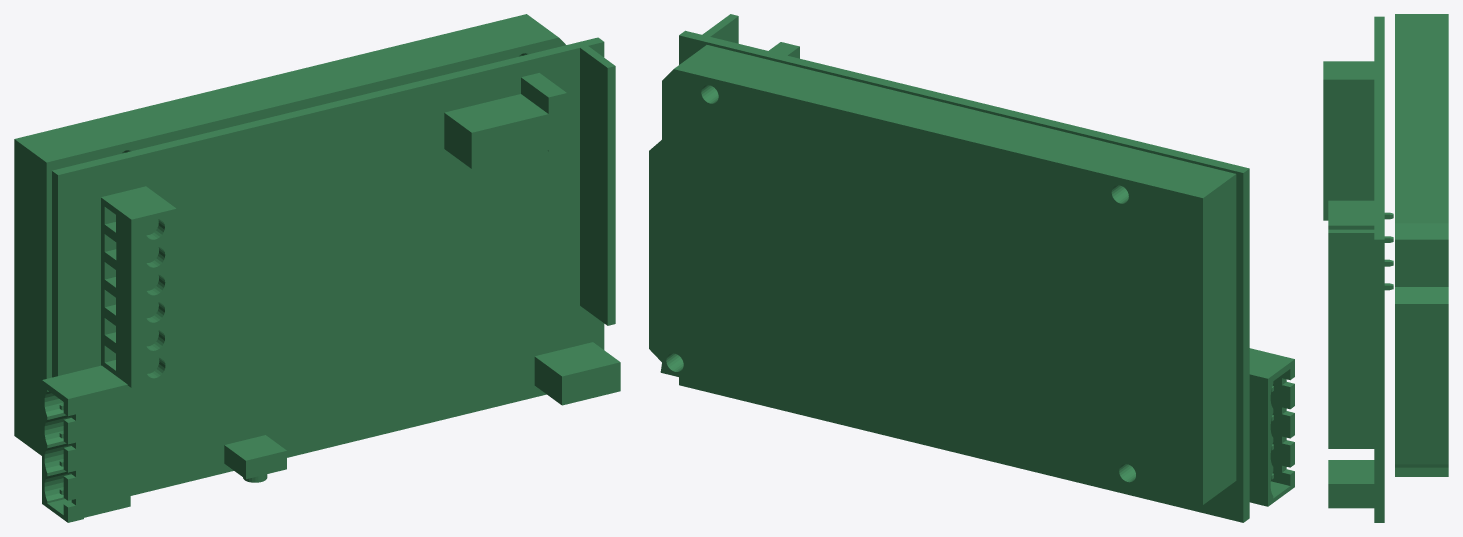
File: d3d_ramps_14_board_approved.glb
The picture shows the model from 3 angles, left to right: view 1: azimuth 30°, elevation 25°; view 2: azimuth 150°, elevation 25°; view 3: azimuth 270°, elevation 25°; orthographic projection. The views are drawn at different scales.
Parts seen in each view (by area): view 1: ramps_14_board; view 2: ramps_14_board; view 3: ramps_14_board.
Boxes of the visible parts, left/top/right/bottom form: ramps_14_board: left=14, top=14, right=620, bottom=522; ramps_14_board: left=649, top=14, right=1294, bottom=522; ramps_14_board: left=1323, top=14, right=1448, bottom=522.
Bounding box in the file's own units: 0.1062 × 0.0619 × 0.0245.
